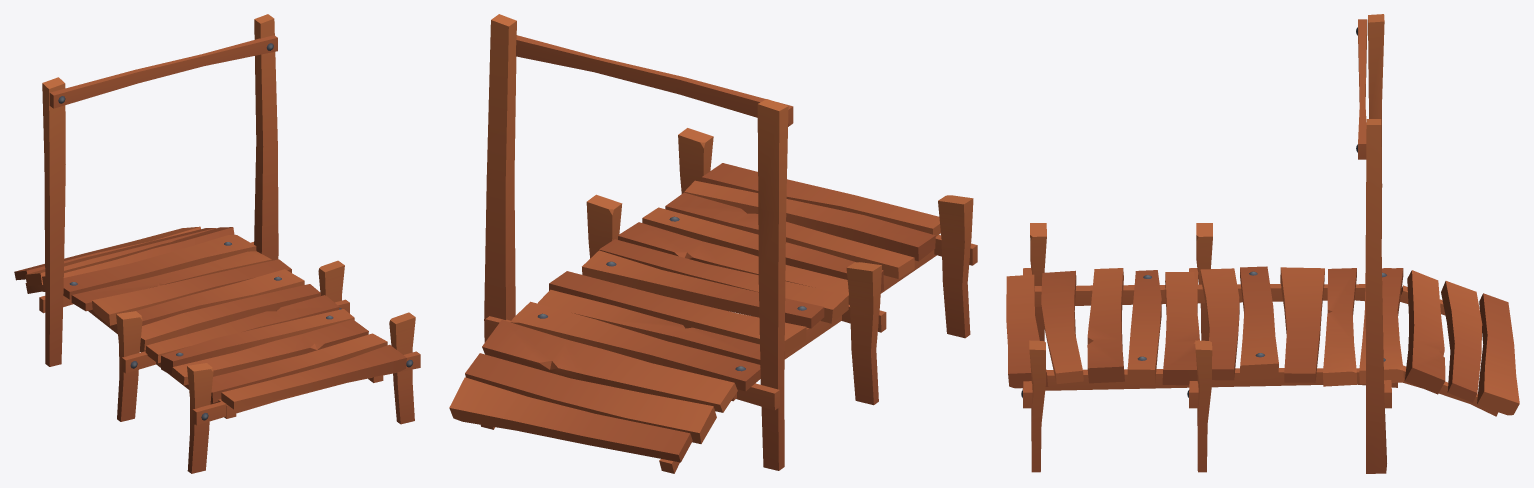
File: SM_Pier.fbx
3 renders of one model, left to right at view 1: azimuth 30°, elevation 25°; view 2: azimuth 150°, elevation 25°; view 3: azimuth 270°, elevation 25°, orthographic. The views are drawn at different scales.
Visible parts, largest first — view 1: SM_Pier; view 2: SM_Pier; view 3: SM_Pier.
Boxes of the visible parts, x1,y1,x2,y2 form: SM_Pier: [14, 14, 420, 473]; SM_Pier: [449, 14, 977, 473]; SM_Pier: [1006, 14, 1519, 473].
Bounding box in the file's own units: 257 × 319 × 426.
